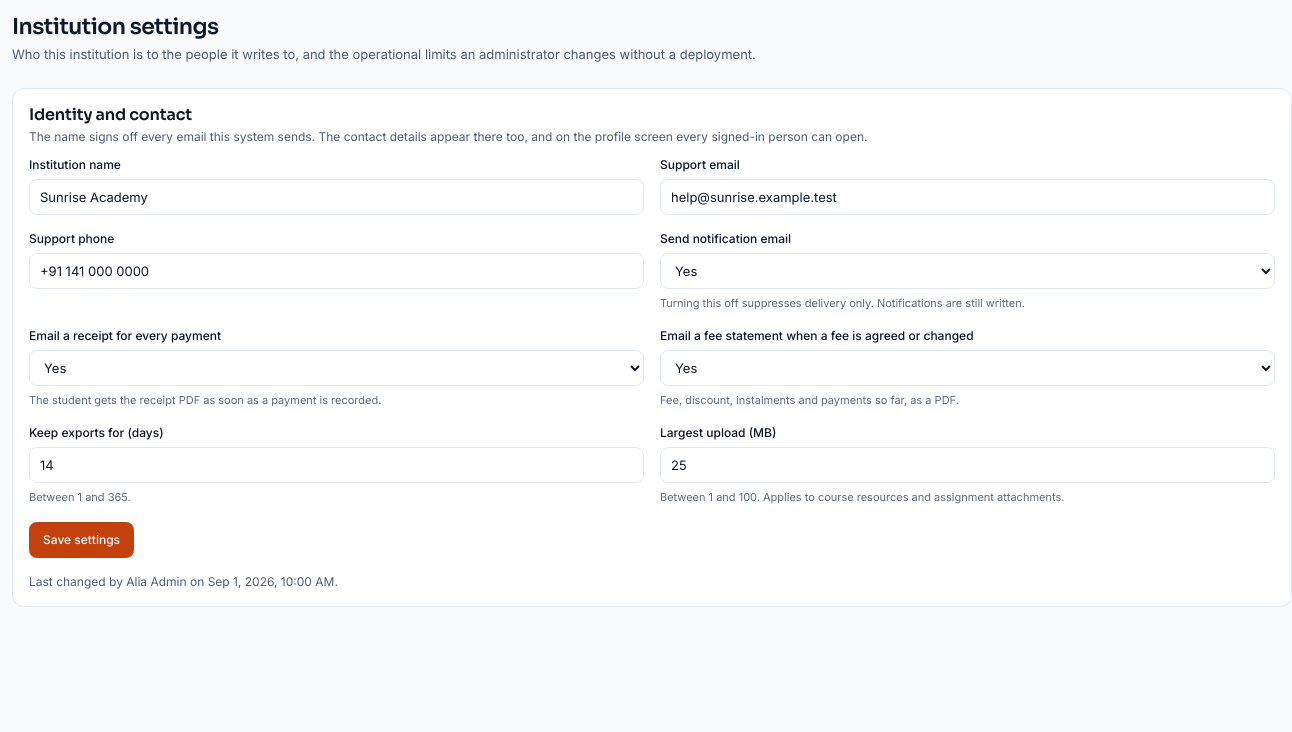
Scenario: InstitutionSettingsPage › disables the submit button and says what it is doing while saving
Replace the text in the field labelled "Support phone" with "+91 141 555 0199" at (336,271), box 29,253 -> 644,289
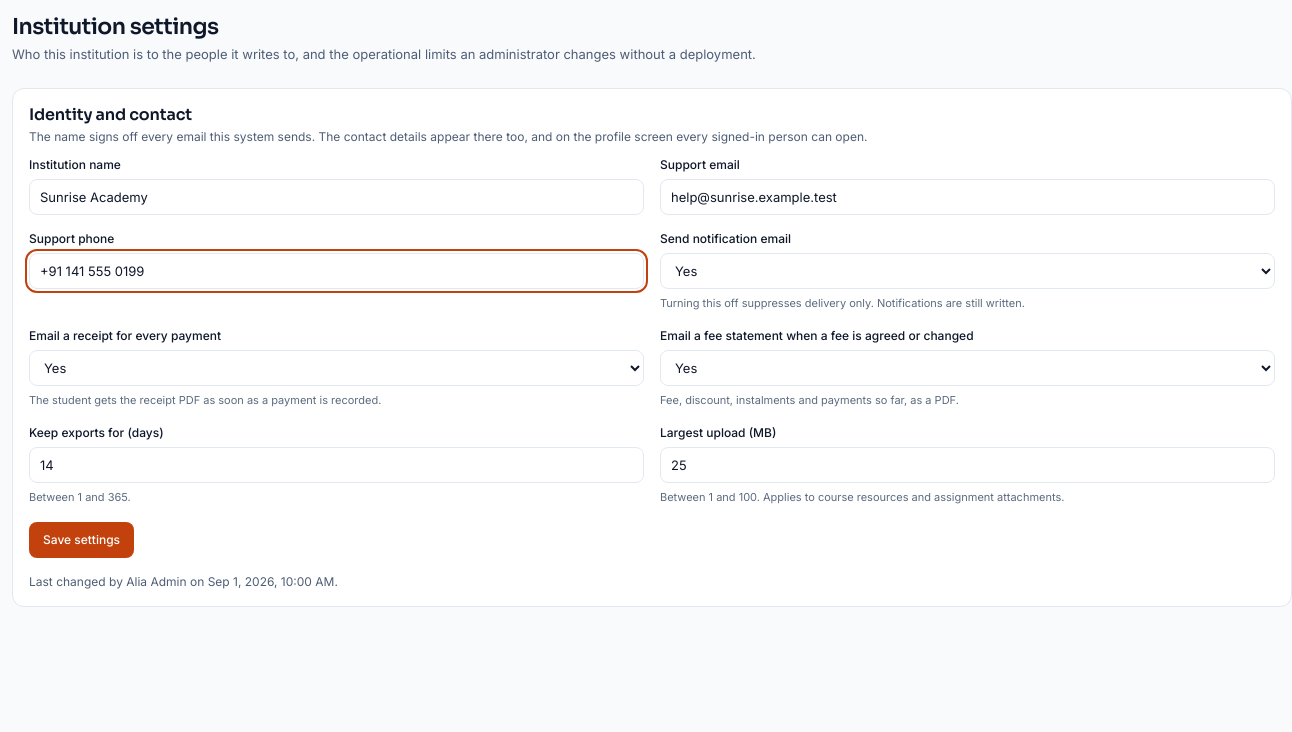
Click the button "Save settings" at (82,540), box 29,522 -> 134,558
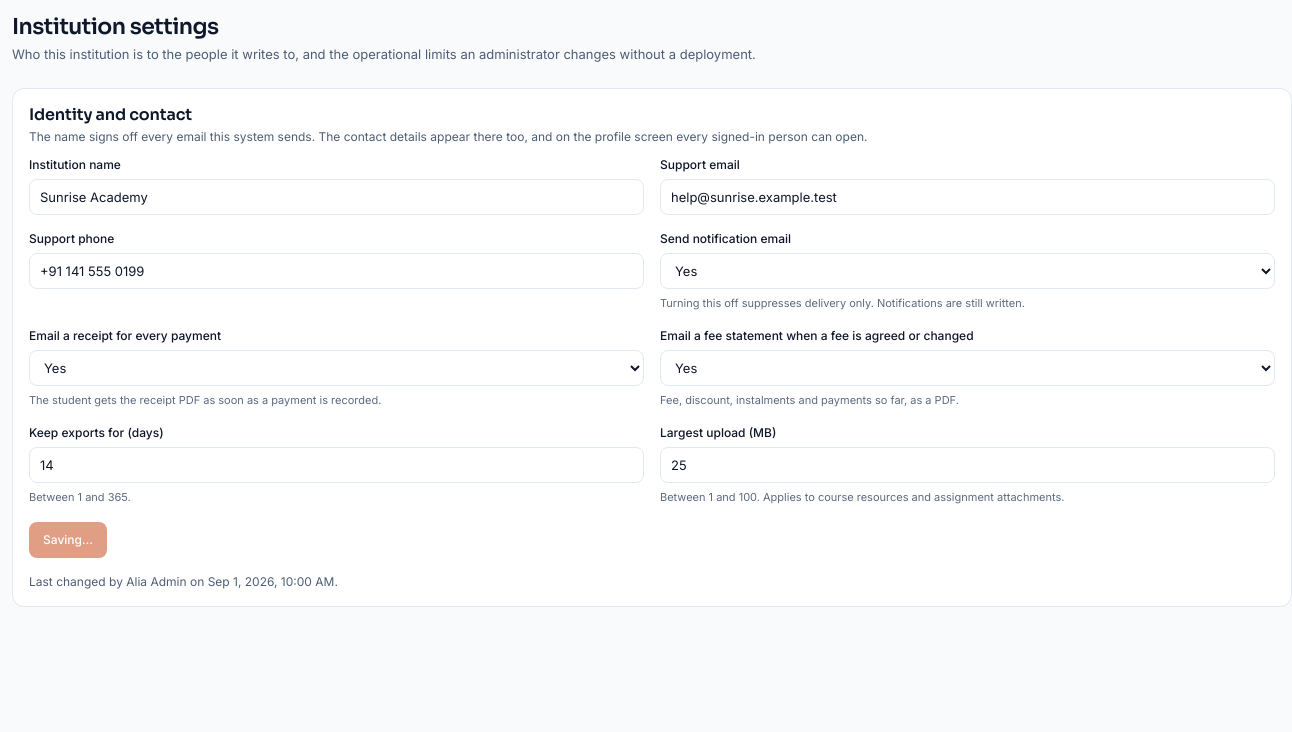
Result: the button "Saving…" is disabled at 29,522 -> 107,558
